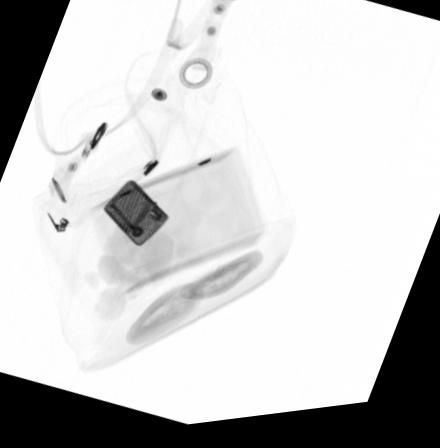Lighter: (103, 182, 168, 250)
